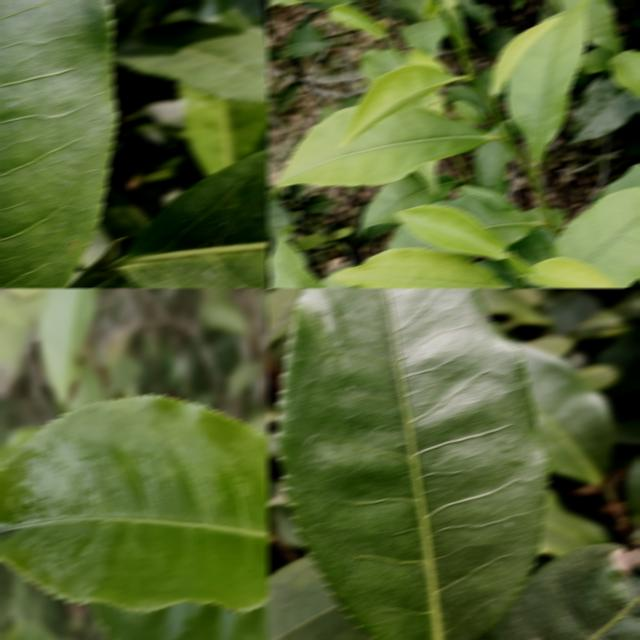Leaf: (278, 288, 549, 640), (0, 395, 269, 612), (0, 0, 117, 288), (117, 149, 269, 288), (484, 525, 640, 640), (276, 106, 493, 187), (514, 341, 615, 486), (506, 0, 589, 167), (113, 20, 269, 102), (338, 63, 460, 147), (267, 556, 374, 640), (552, 186, 640, 288), (177, 83, 269, 174), (333, 247, 510, 288), (38, 288, 98, 405), (90, 601, 269, 640), (360, 172, 463, 234), (395, 204, 510, 259), (491, 15, 561, 96), (437, 195, 540, 247), (569, 71, 640, 142), (596, 329, 640, 399), (268, 235, 326, 288), (473, 141, 514, 197), (328, 5, 389, 41), (585, 0, 623, 54), (267, 288, 301, 348), (400, 16, 447, 57), (283, 23, 336, 57), (609, 50, 640, 97), (387, 225, 441, 250), (623, 453, 640, 518), (267, 197, 292, 239), (403, 0, 427, 15)
